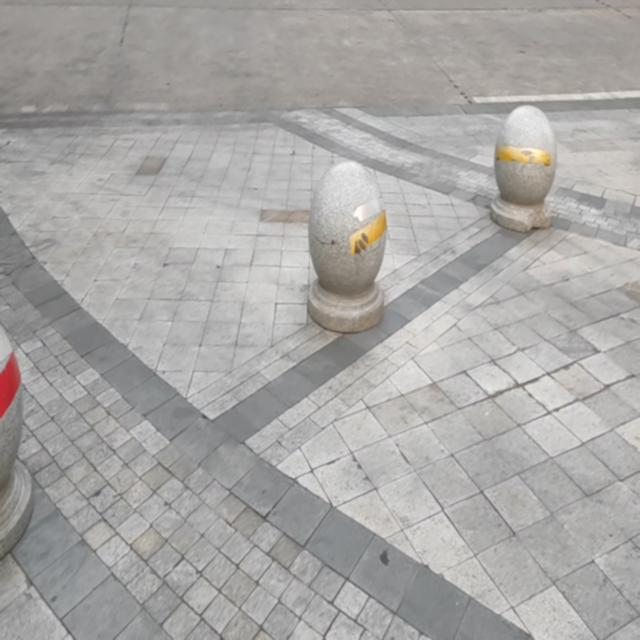spherical_roadblock: (306, 160, 386, 334), (492, 102, 558, 232), (1, 329, 33, 559)
